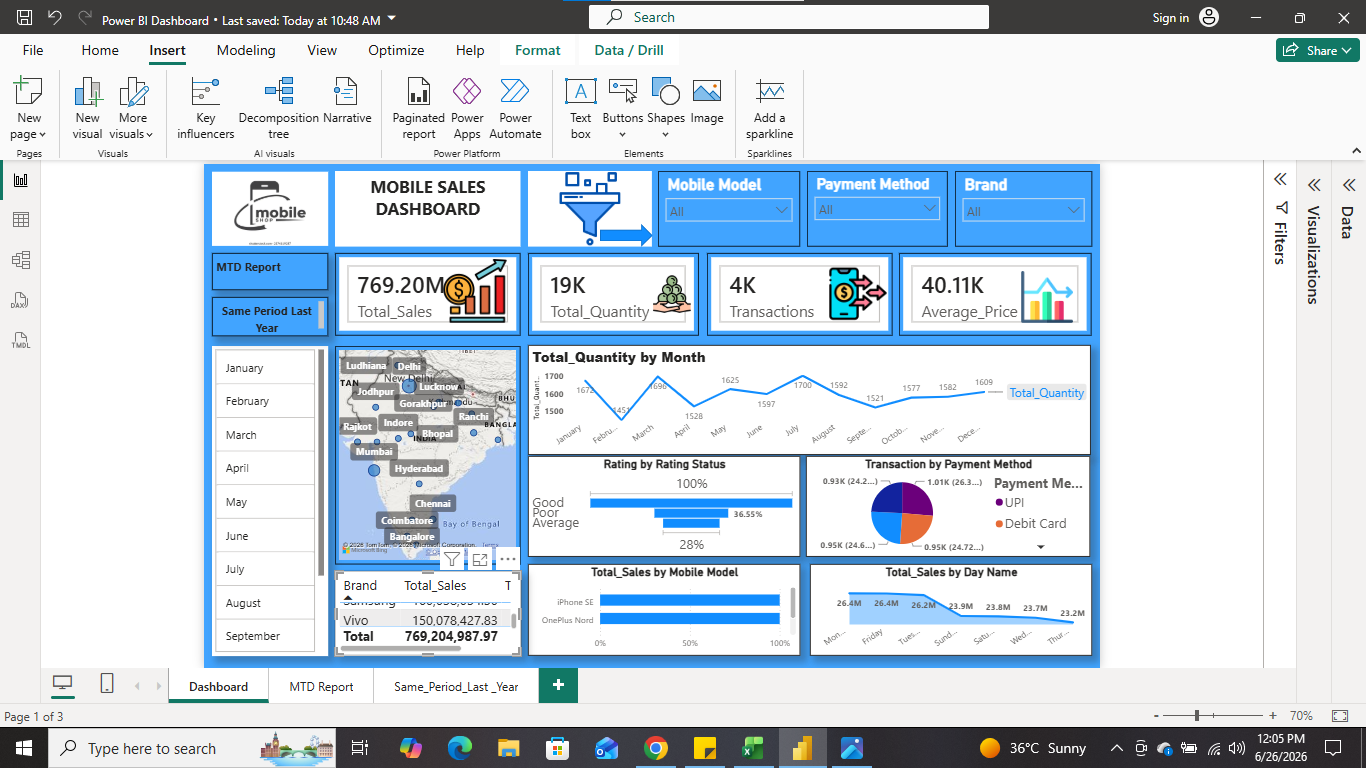

The dashboard page shown, as its layout file describes it:
{"tool":"powerbi","page":{"name":"Dashboard","canvas":[1280,720],"ordinal":0},"visuals":[{"type":"image","box":[11.3,9.9,165.8,107.7],"z":0},{"type":"textbox","box":[187.1,9.9,265,107.7],"z":1000},{"type":"image","box":[463.5,9.9,177.2,107.7],"z":2000},{"type":"advancedSlicerVisual","fields":{"Values":["Custom_Calender.Date.Variation.Date Hierarchy.Month"]},"box":[11.4,260,165.7,442.9],"z":3000},{"type":"shape","box":[11.4,127.1,165.7,52.9],"z":4000},{"type":"shape","box":[11.4,190,165.7,55.7],"z":5000},{"type":"textbox","box":[11.4,127.1,165.7,52.9],"z":6000},{"type":"textbox","box":[11.4,190,165.7,55.7],"z":7000},{"type":"cardVisual","title":"Total sales","fields":{"Data":["Sales_Data.Total_Sales"]},"box":[187.1,127.6,265,117.6],"z":8000},{"type":"cardVisual","fields":{"Data":["Sales_Data.Total_Quantity"]},"box":[463.5,127.6,243.8,117.6],"z":9000},{"type":"cardVisual","fields":{"Data":["Sales_Data.Transactions"]},"box":[718.6,127.6,265,117.6],"z":10000},{"type":"cardVisual","fields":{"Data":["Sales_Data.Average_Price"]},"box":[993.5,127.6,275,117.6],"z":11000},{"type":"image","box":[1160.8,153.1,86.5,73.7],"z":12000},{"type":"image","box":[884.4,144.6,99.2,82.2],"z":13000},{"type":"image","box":[602.4,144.6,95,73.7],"z":14000},{"type":"image","box":[338.7,136.1,96.4,90.7],"z":15000},{"type":"slicer","fields":{"Values":["Sales_Data.Mobile Model"]},"box":[649.1,9.9,202.7,107.7],"z":16000},{"type":"slicer","fields":{"Values":["Sales_Data.Payment Method"]},"box":[861.7,9.9,201.3,107.7],"z":17000},{"type":"slicer","fields":{"Values":["Sales_Data.Brand"]},"box":[1072.9,9.9,195.6,107.7],"z":18000},{"type":"shape","box":[565.5,85,75.1,32.6],"z":19000},{"type":"map","fields":{"Category":["Sales_Data.City"],"Size":["Sales_Data.Total_Sales"]},"box":[187.1,259.4,265,311.8],"z":20000},{"type":"lineChart","fields":{"Y":["Sales_Data.Total_Quantity"],"Category":["Custom_Calender.Date.Variation.Date Hierarchy.Month"]},"box":[462.9,258.6,804.3,157.1],"z":21000},{"type":"funnel","title":"Rating by Rating Status","fields":{"Y":["CountNonNull(Sales_Data.Customer Ratings)"],"Category":["Sales_Data.Rating_Status"]},"box":[462.9,417.1,388.6,144.3],"z":21001},{"type":"pieChart","title":"Transaction by Payment Method","fields":{"Category":["Sales_Data.Payment Method"],"Y":["Count(Sales_Data.Transaction ID)"]},"box":[860,417.1,405.7,144.3],"z":21002},{"type":"hundredPercentStackedBarChart","fields":{"Y":["Sales_Data.Total_Sales"],"Category":["Sales_Data.Mobile Model"]},"box":[462.9,571.4,388.6,131.4],"z":21003},{"type":"areaChart","fields":{"Category":["Custom_Calender.Day Name"],"Y":["Sales_Data.Total_Sales"]},"box":[865.7,571.4,402.9,131.4],"z":21004},{"type":"tableEx","fields":{"Values":["Sales_Data.Brand","Sales_Data.Total_Sales","Sales_Data.Transactions"]},"box":[187.1,571.4,265.7,131.4],"z":21005}]}

Visuals, with their boxes on the page's 1280x720 design canvas (x1, y1, x2, y2). These are canvas units, not pixel positions in the 1366x768 screenshot, which may show the page scaled, cropped or inside an application window:
image: crop(11, 10, 177, 118)
textbox: crop(187, 10, 452, 118)
image: crop(464, 10, 641, 118)
advancedSlicerVisual - Custom_Calender.Date.Variation.Date Hierarchy.Month: crop(11, 260, 177, 703)
shape: crop(11, 127, 177, 180)
shape: crop(11, 190, 177, 246)
textbox: crop(11, 127, 177, 180)
textbox: crop(11, 190, 177, 246)
"Total sales" cardVisual: crop(187, 128, 452, 245)
cardVisual - Sales_Data.Total_Quantity: crop(464, 128, 707, 245)
cardVisual - Sales_Data.Transactions: crop(719, 128, 984, 245)
cardVisual - Sales_Data.Average_Price: crop(994, 128, 1268, 245)
image: crop(1161, 153, 1247, 227)
image: crop(884, 145, 984, 227)
image: crop(602, 145, 697, 218)
image: crop(339, 136, 435, 227)
slicer - Sales_Data.Mobile Model: crop(649, 10, 852, 118)
slicer - Sales_Data.Payment Method: crop(862, 10, 1063, 118)
slicer - Sales_Data.Brand: crop(1073, 10, 1268, 118)
shape: crop(566, 85, 641, 118)
map - Sales_Data.City x Sales_Data.Total_Sales: crop(187, 259, 452, 571)
lineChart - Sales_Data.Total_Quantity x Custom_Calender.Date.Variation.Date Hierarchy.Month: crop(463, 259, 1267, 416)
"Rating by Rating Status" funnel: crop(463, 417, 852, 561)
"Transaction by Payment Method" pieChart: crop(860, 417, 1266, 561)
hundredPercentStackedBarChart - Sales_Data.Total_Sales x Sales_Data.Mobile Model: crop(463, 571, 852, 703)
areaChart - Custom_Calender.Day Name x Sales_Data.Total_Sales: crop(866, 571, 1269, 703)
tableEx - Sales_Data.Brand x Sales_Data.Total_Sales: crop(187, 571, 453, 703)
